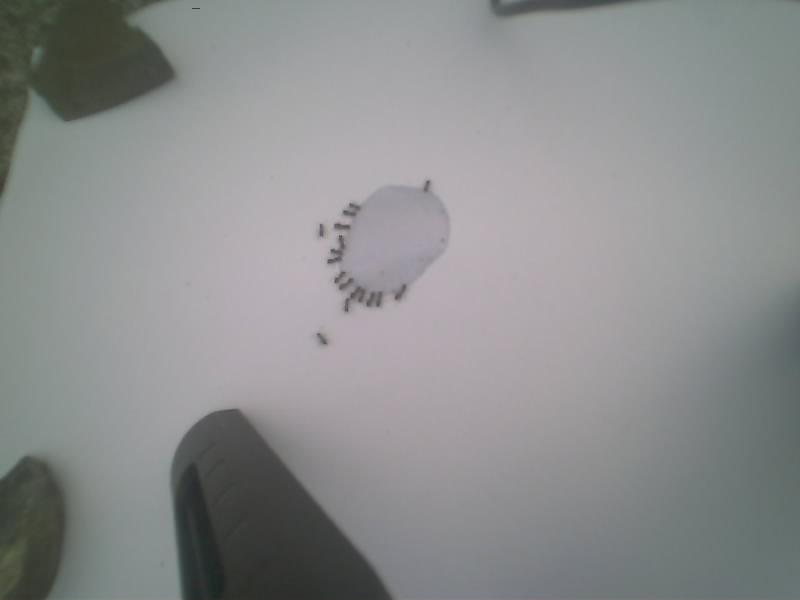Ant: (339, 276, 355, 290), (395, 284, 408, 301), (333, 222, 352, 231), (337, 234, 347, 251), (334, 271, 347, 284), (350, 285, 362, 299), (342, 208, 358, 218), (366, 291, 376, 306), (343, 297, 352, 313), (374, 292, 383, 308), (327, 256, 343, 265), (329, 248, 345, 257), (357, 288, 366, 304), (317, 332, 328, 345), (348, 202, 361, 212), (318, 223, 326, 239), (423, 180, 432, 193)
